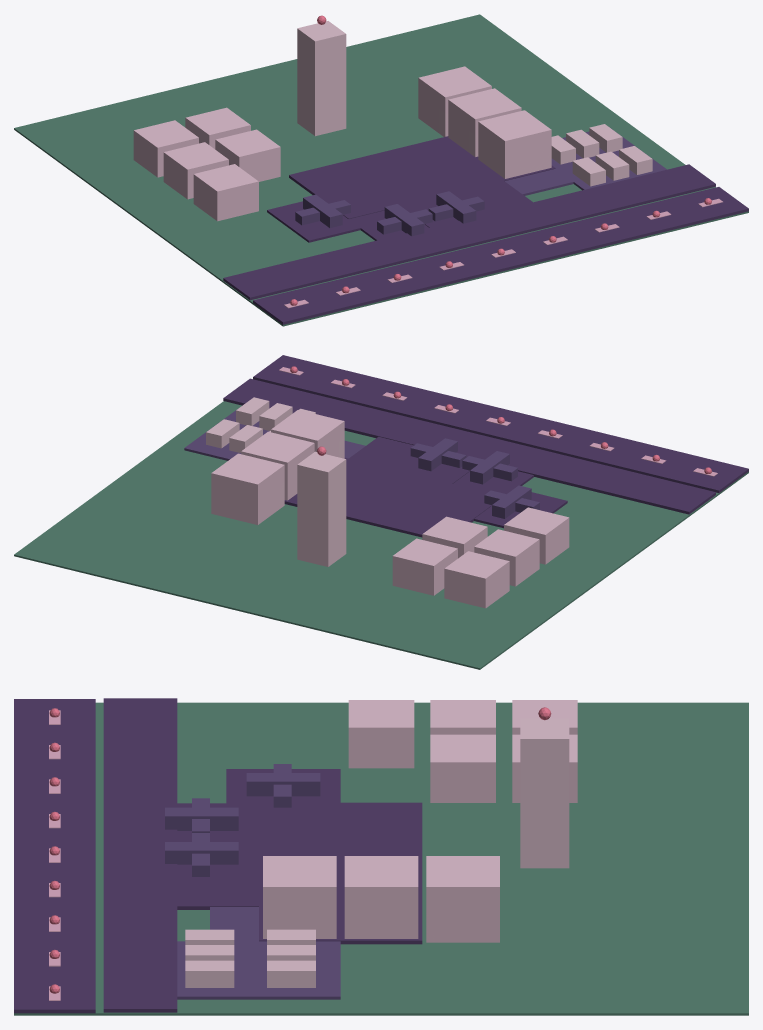
File: stage_20.glb
3 views of the same model, one above another, from view 1: azimuth 30°, elevation 25°; view 2: azimuth 150°, elevation 25°; view 3: azimuth 270°, elevation 25° (orthographic). The views are drawn at different scales.
Visible parts, largest first — view 1: geometry_0; view 2: geometry_0; view 3: geometry_0.
Boxes of the visible parts, bbox=[...] form: geometry_0: bbox=[14, 14, 748, 326]; geometry_0: bbox=[14, 355, 748, 669]; geometry_0: bbox=[14, 698, 748, 1015].
Bounding box in the file's own units: 9 × 2.06 × 9.
